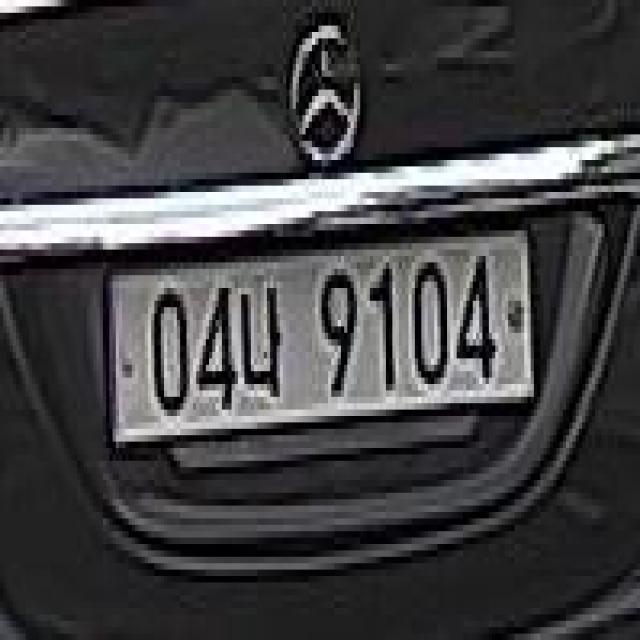illegal_plate: (101, 210, 539, 468)
